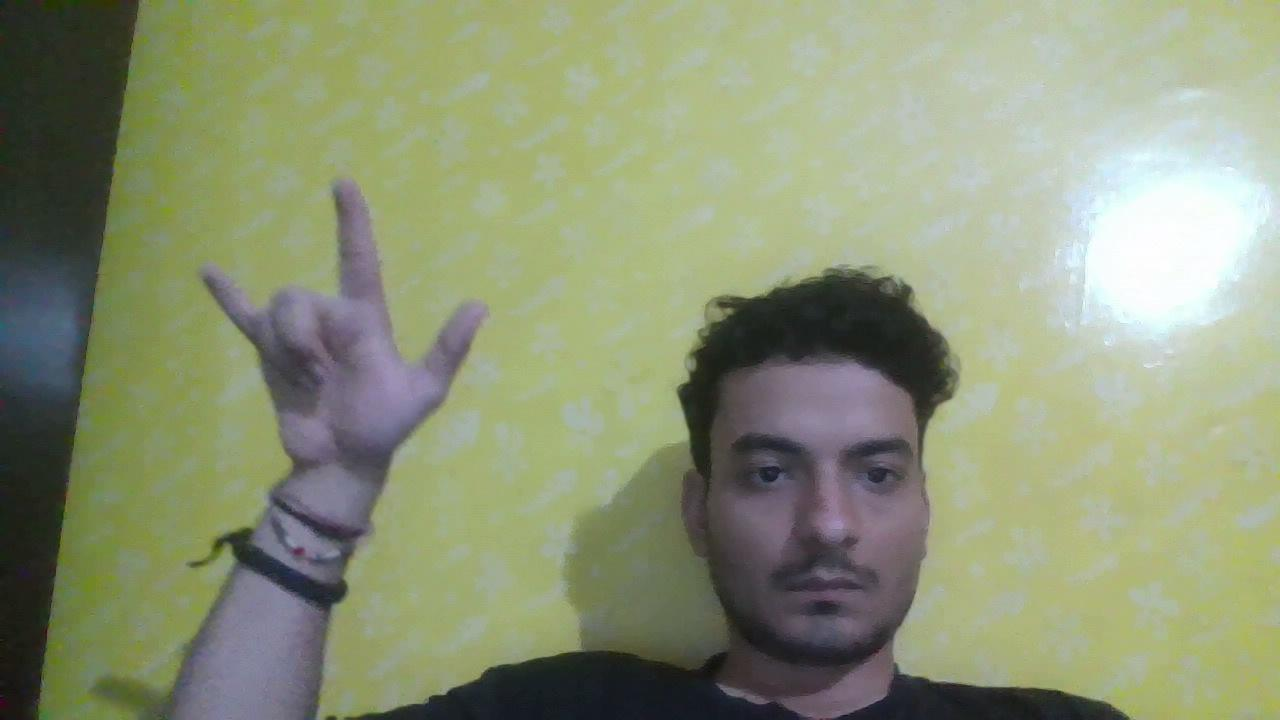Loveyou: (137, 173, 543, 498)
